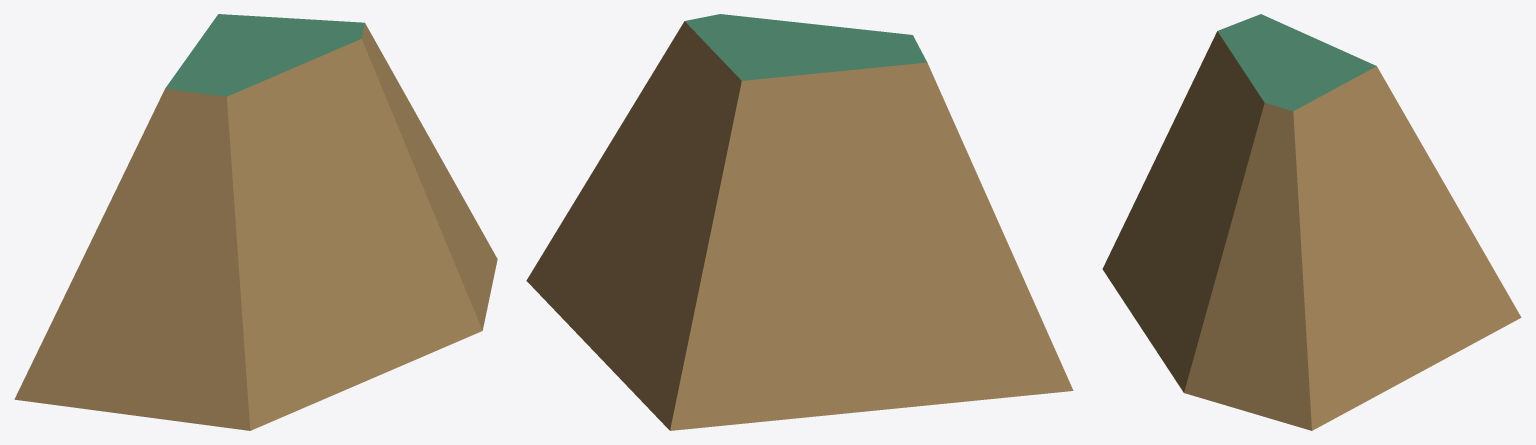
The model's file is Rock_Small_Mesa_Eroded_Moss_Grass_08.FBX.
The picture shows the model from 3 angles, left to right: view 1: azimuth 30°, elevation 25°; view 2: azimuth 150°, elevation 25°; view 3: azimuth 270°, elevation 25°; orthographic projection. The views are drawn at different scales.
Parts seen in each view (by area): view 1: Rock_Small_Mesa_Eroded_Moss_Grass_08; view 2: Rock_Small_Mesa_Eroded_Moss_Grass_08; view 3: Rock_Small_Mesa_Eroded_Moss_Grass_08.
Boxes of the visible parts, x1,y1,x2,y2 form: Rock_Small_Mesa_Eroded_Moss_Grass_08: (14, 14, 497, 430); Rock_Small_Mesa_Eroded_Moss_Grass_08: (526, 14, 1073, 430); Rock_Small_Mesa_Eroded_Moss_Grass_08: (1102, 14, 1521, 430).
Size of the model in its own units: 1903 by 1001 by 1487.
